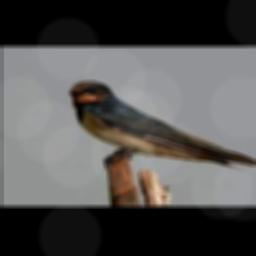Swallow: (69, 82, 256, 168)
